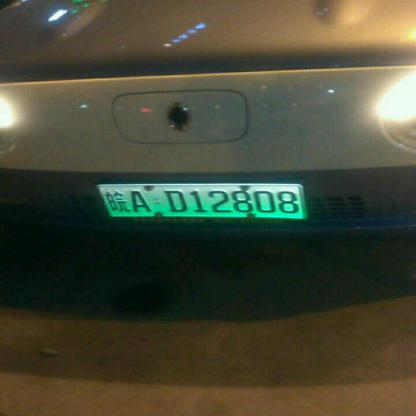lp: (97, 186, 305, 217)
